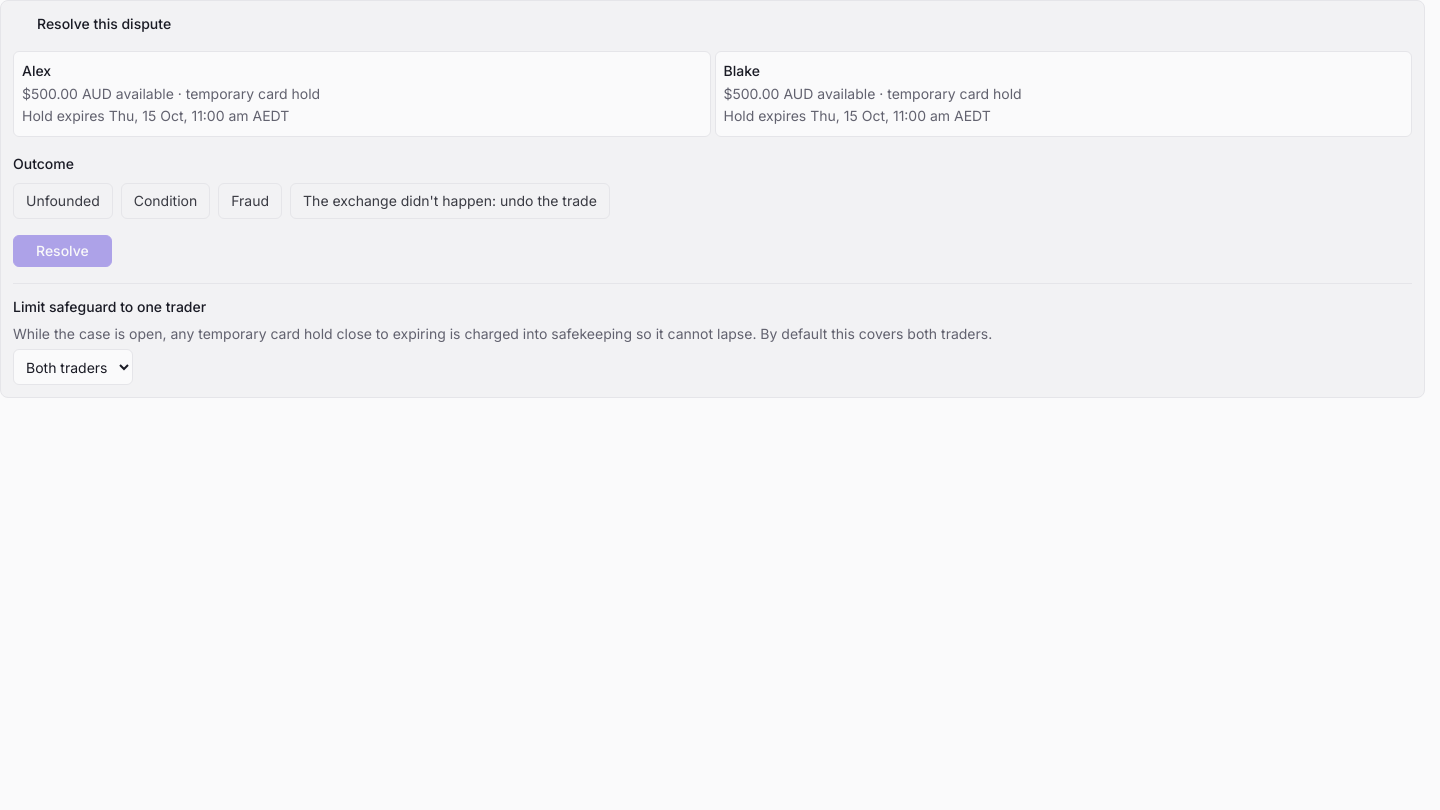
Scenario: TradeDisputeActions › requires the attestation for Condition on a never-inspected trade, but not for undo
Click the button "Condition" at [165, 201], box top-left (121, 183), bottom-right (210, 219)
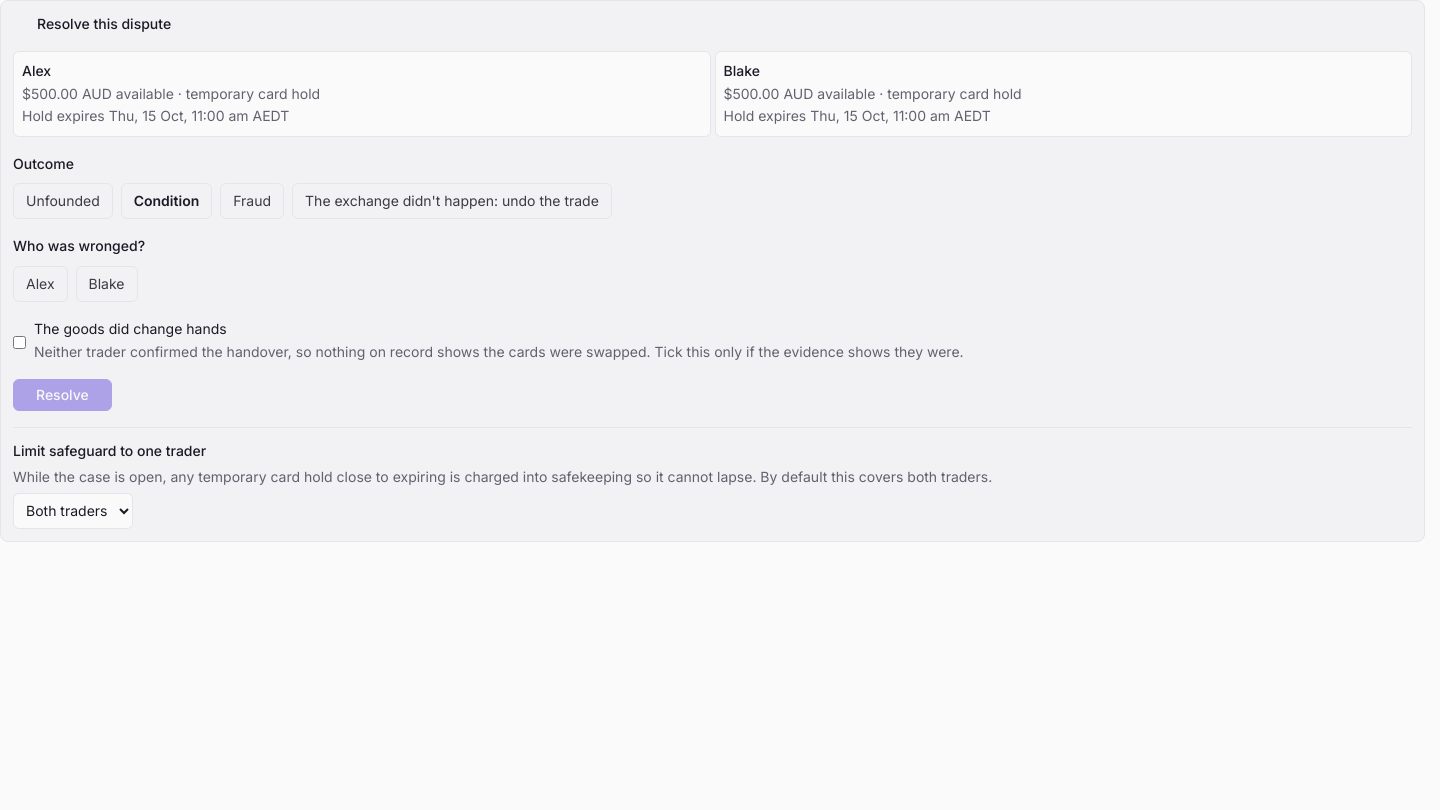
Click the button "Alex" at [40, 284], box top-left (13, 266), bottom-right (68, 302)
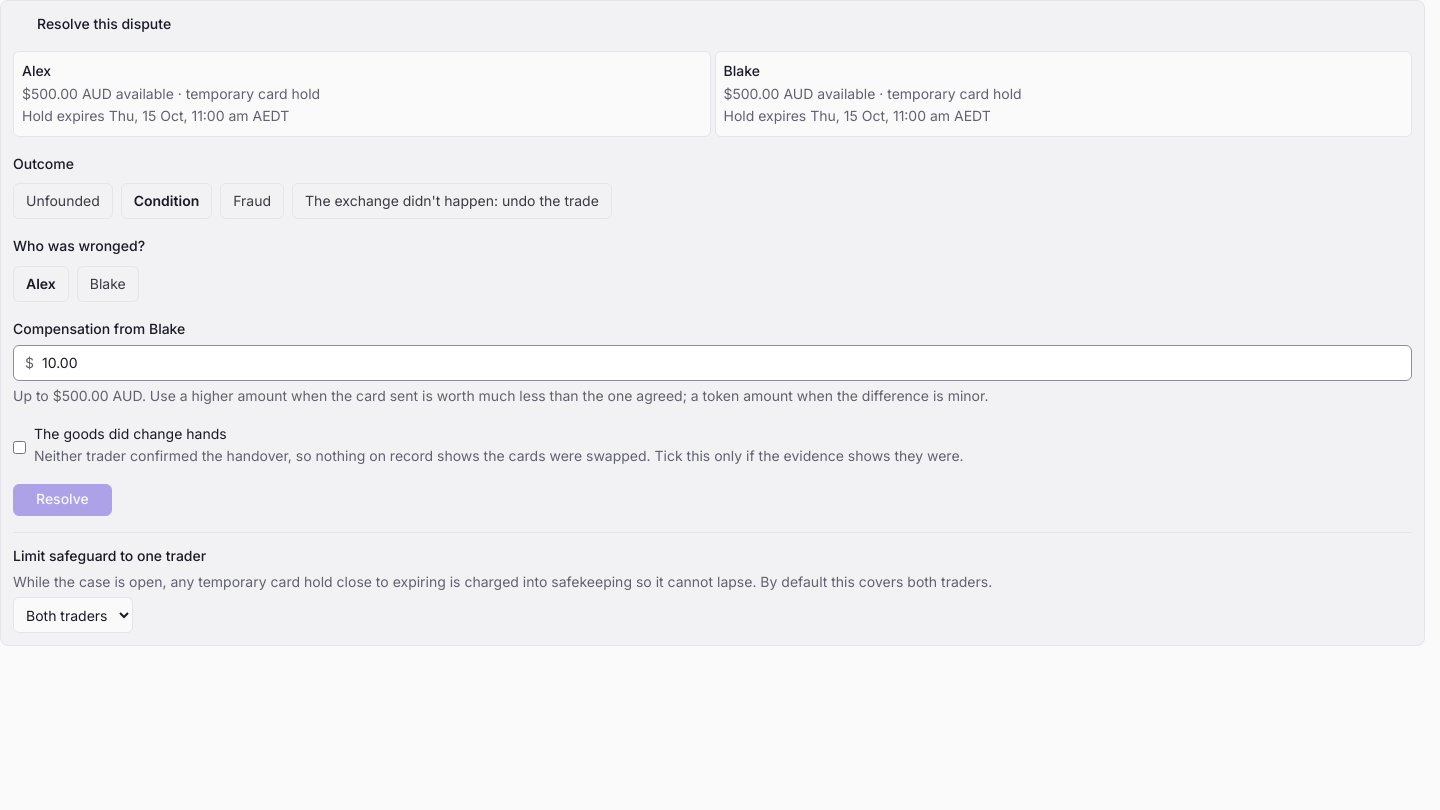
Expected: the button "Resolve" is disabled, top-left (13, 484), bottom-right (112, 516)
Click the button "The exchange didn't happen: undo the trade" at [452, 201], box top-left (292, 183), bottom-right (612, 219)
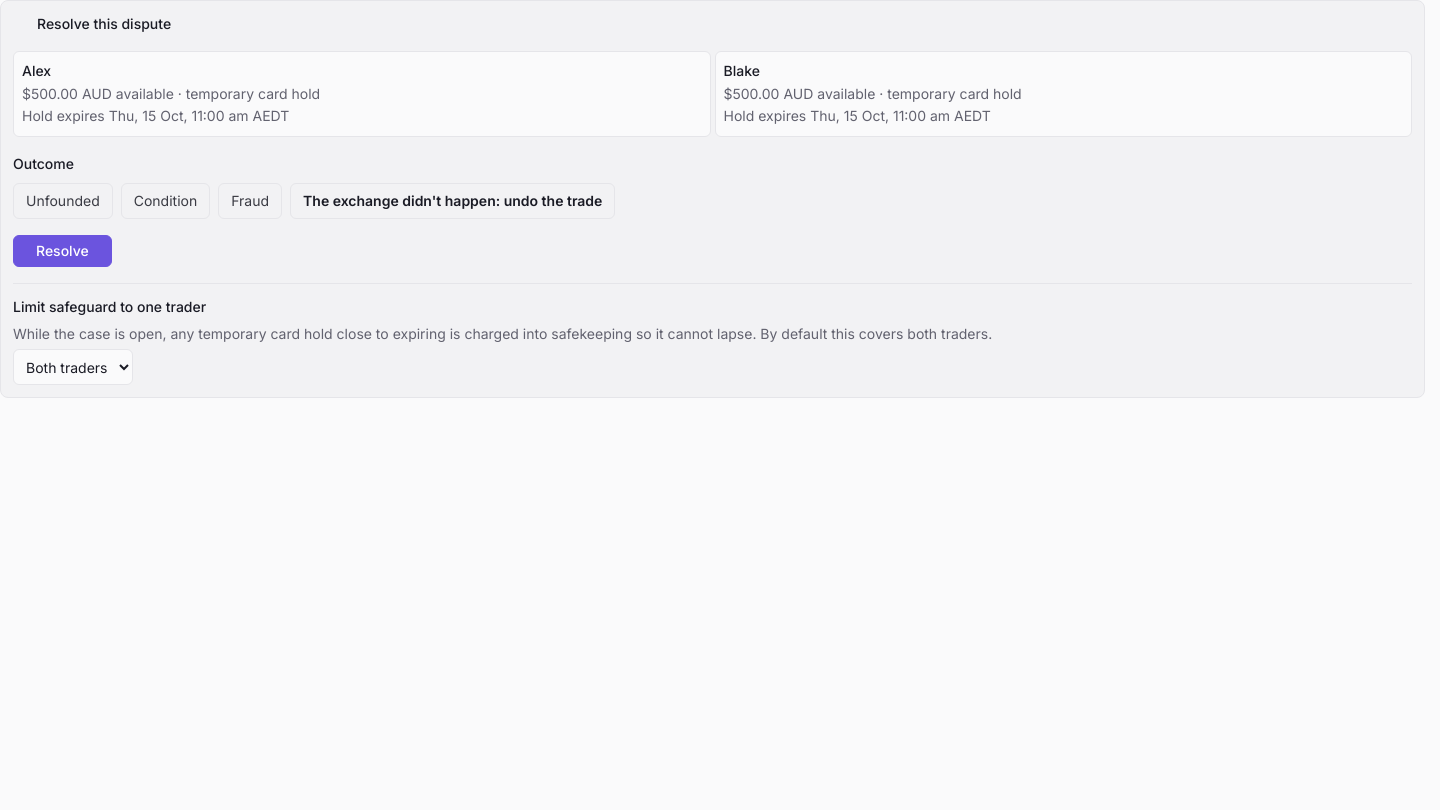
Expected: the checkbox labelled "The goods did change hands" is gone
Expected: the button "Resolve" is enabled, top-left (13, 235), bottom-right (112, 267)
